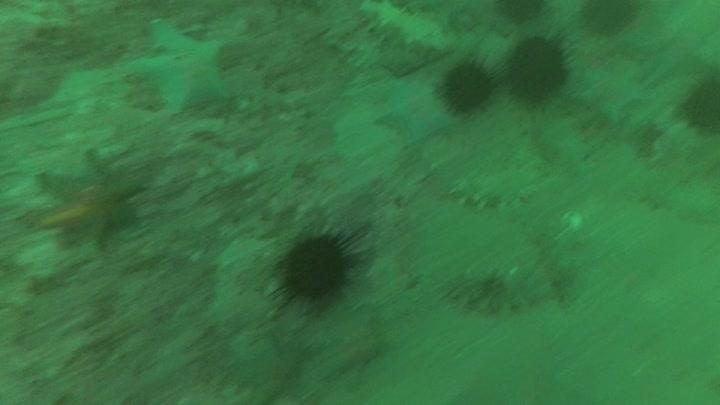echinus: (272, 224, 363, 310), (504, 32, 573, 105), (437, 55, 499, 117), (676, 71, 720, 137), (577, 0, 640, 38), (493, 0, 549, 27)
holothurian: (437, 261, 555, 319), (356, 0, 449, 56), (445, 162, 545, 213)
starfish: (31, 146, 149, 254), (124, 17, 237, 119), (618, 2, 719, 86), (373, 77, 456, 146), (573, 60, 648, 126)
